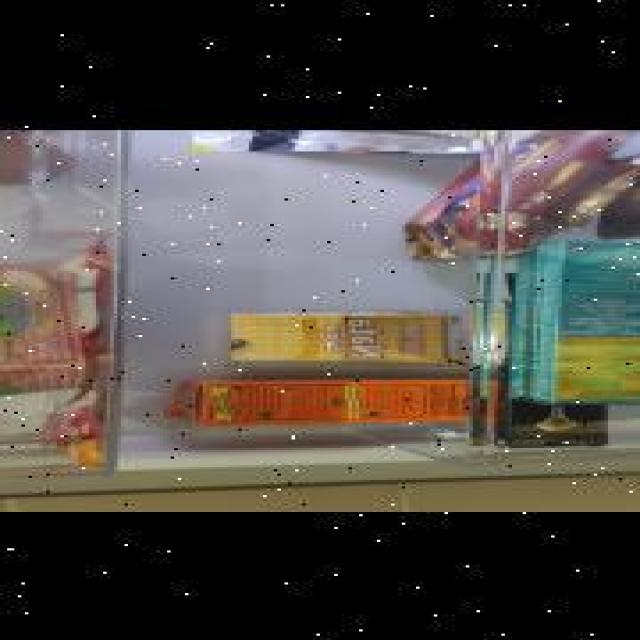butter: (0, 248, 100, 408)
egg: (0, 128, 85, 187)
grated_cheese: (192, 128, 473, 149)
heavy_cream: (231, 307, 469, 365)
